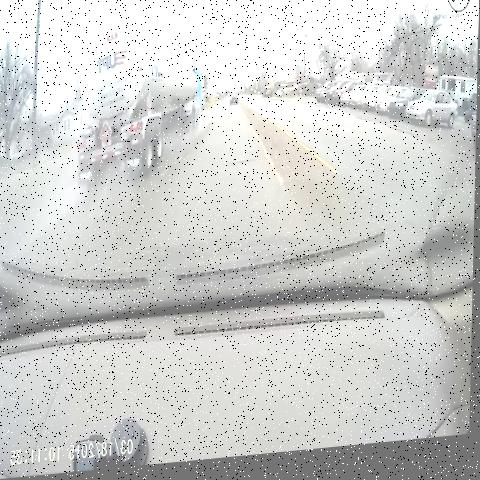pothole: (227, 157, 264, 185)
